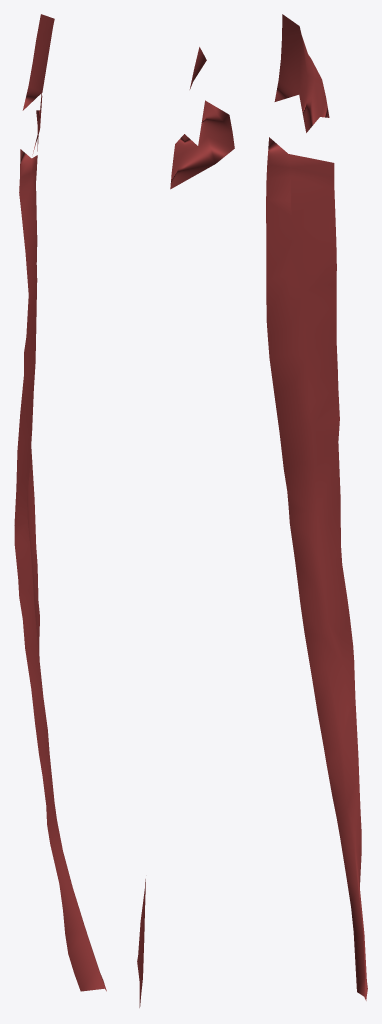
Rendered from anterior-intermuscular-septum-of-leg-r.glb.
3 renders of one model, left to right at view 1: azimuth 30°, elevation 25°; view 2: azimuth 150°, elevation 25°; view 3: azimuth 330°, elevation 25°, orthographic. The views are drawn at different scales.
Parts seen in each view (by area): view 1: Anterior intermuscular septum of leg.r; view 2: Anterior intermuscular septum of leg.r; view 3: Anterior intermuscular septum of leg.r.
Boxes of the visible parts, bbox=[...] form: Anterior intermuscular septum of leg.r: bbox=[14, 14, 106, 991]; Anterior intermuscular septum of leg.r: bbox=[137, 47, 234, 1007]; Anterior intermuscular septum of leg.r: bbox=[266, 14, 367, 1000].
Bounding box in the file's own units: 0.0283 × 0.2912 × 0.0204.
